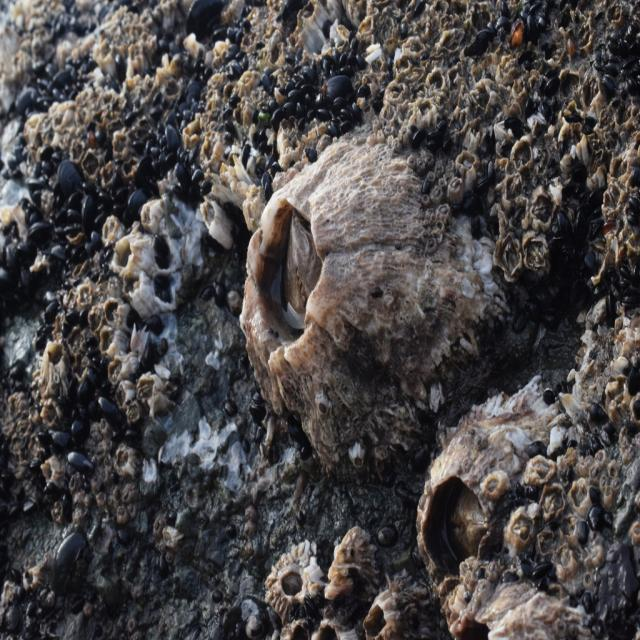barnacles: (232, 125, 485, 458), (414, 387, 552, 610), (260, 542, 313, 616)
